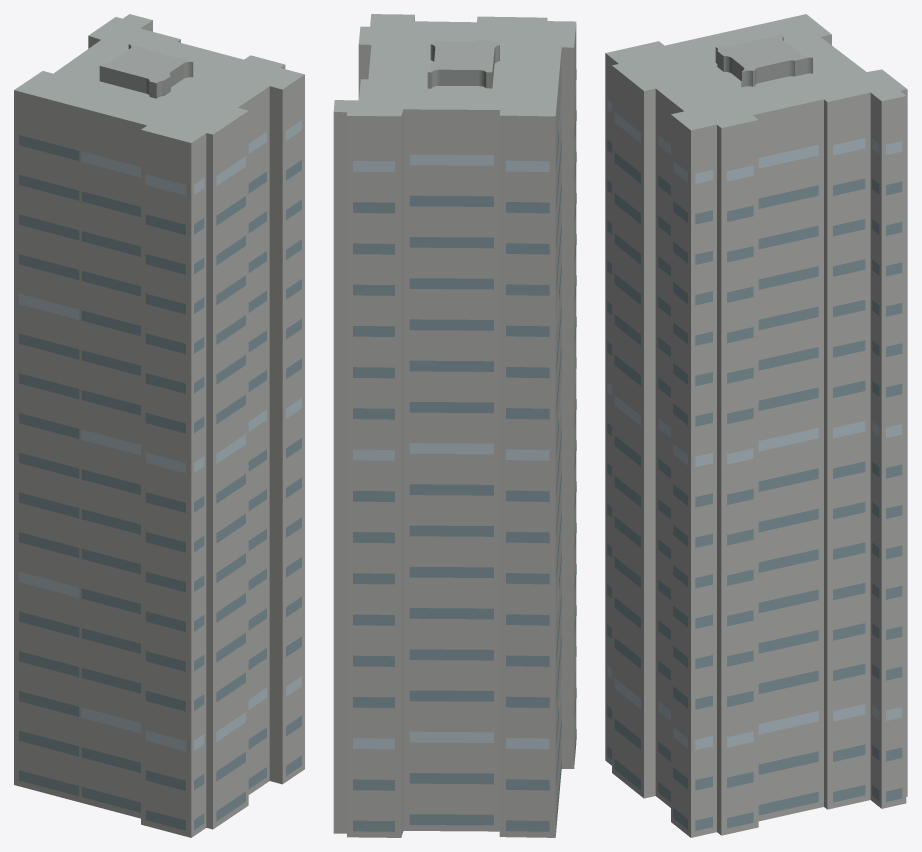
The model's file is fallback-onebailey-119.glb.
3 views of the same model, side by side, from view 1: azimuth 30°, elevation 25°; view 2: azimuth 150°, elevation 25°; view 3: azimuth 270°, elevation 25° (orthographic). The views are drawn at different scales.
Visible parts, largest first — view 1: fallback-onebailey-119; view 2: fallback-onebailey-119; view 3: fallback-onebailey-119.
Part boxes in pixels (left/top/right/bottom): fallback-onebailey-119: left=14, top=14, right=304, bottom=837; fallback-onebailey-119: left=333, top=14, right=576, bottom=837; fallback-onebailey-119: left=605, top=14, right=907, bottom=837.
Bounding box in the file's own units: 37.97 × 110 × 41.62.
